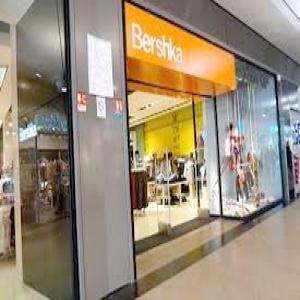bershka: (134, 36, 264, 53)
